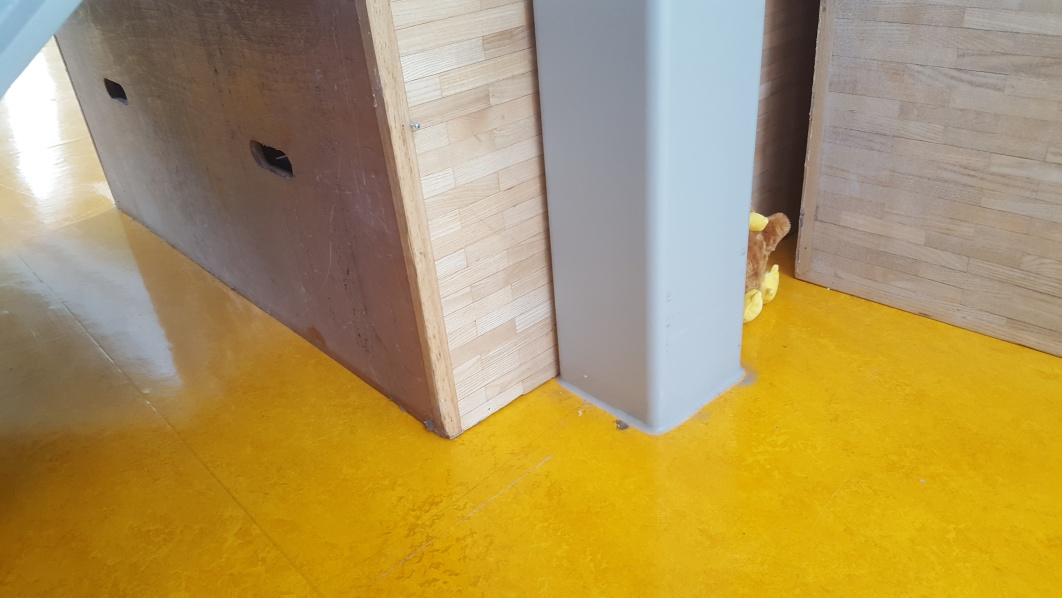chicken: (743, 205, 791, 324)
